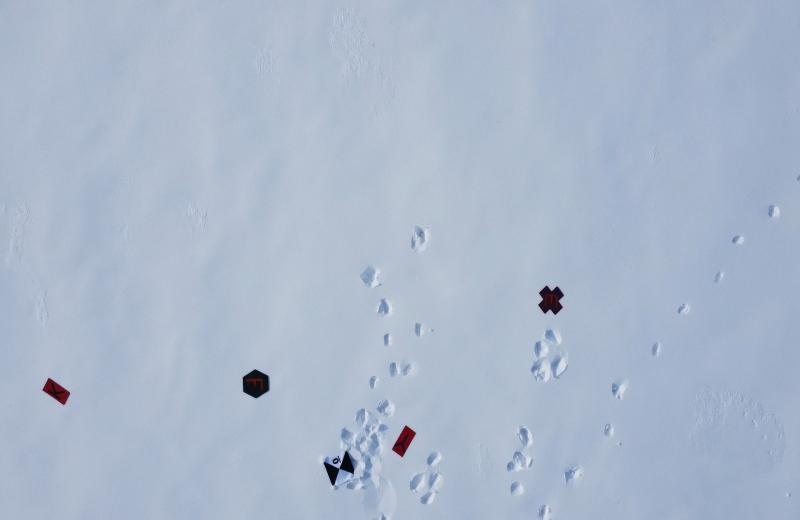Cross: (533, 278, 567, 318)
Hexagon: (238, 366, 272, 404)
Rectangle: (38, 376, 73, 411), (392, 421, 418, 461)
